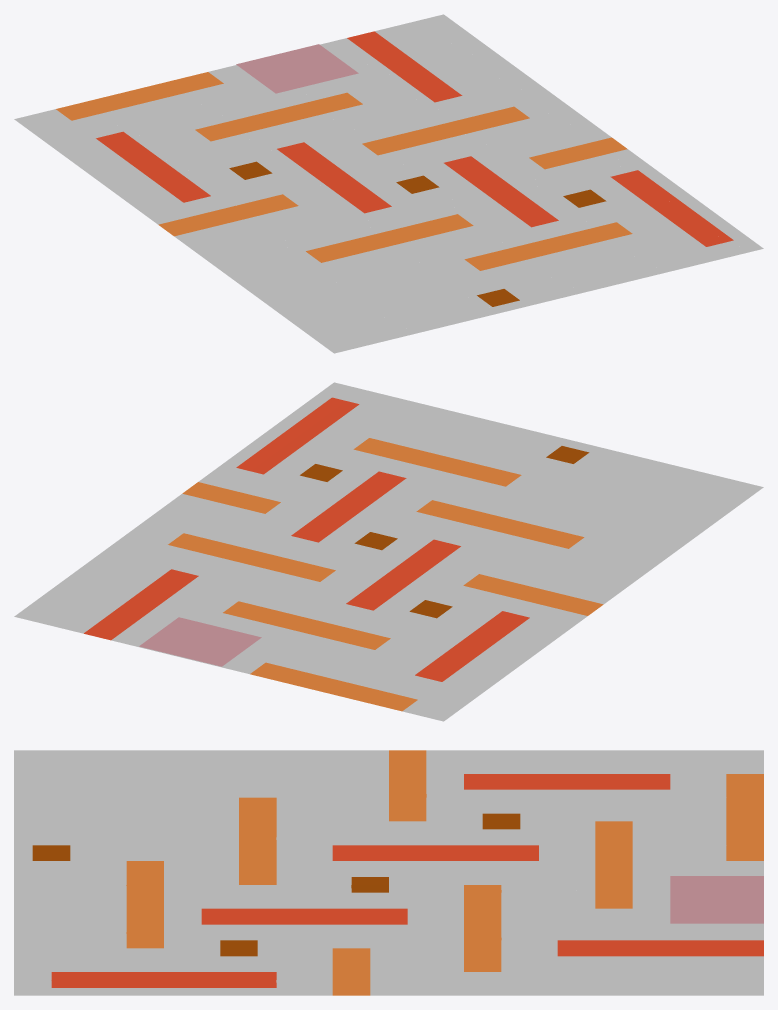
The model's file is heat_sync_3d_floor.gltf.
3 renders of one model, top to bottom at view 1: azimuth 30°, elevation 25°; view 2: azimuth 150°, elevation 25°; view 3: azimuth 270°, elevation 25°, orthographic. The views are drawn at different scales.
Size of the model in its own units: 62 by 0.1009 by 80.
